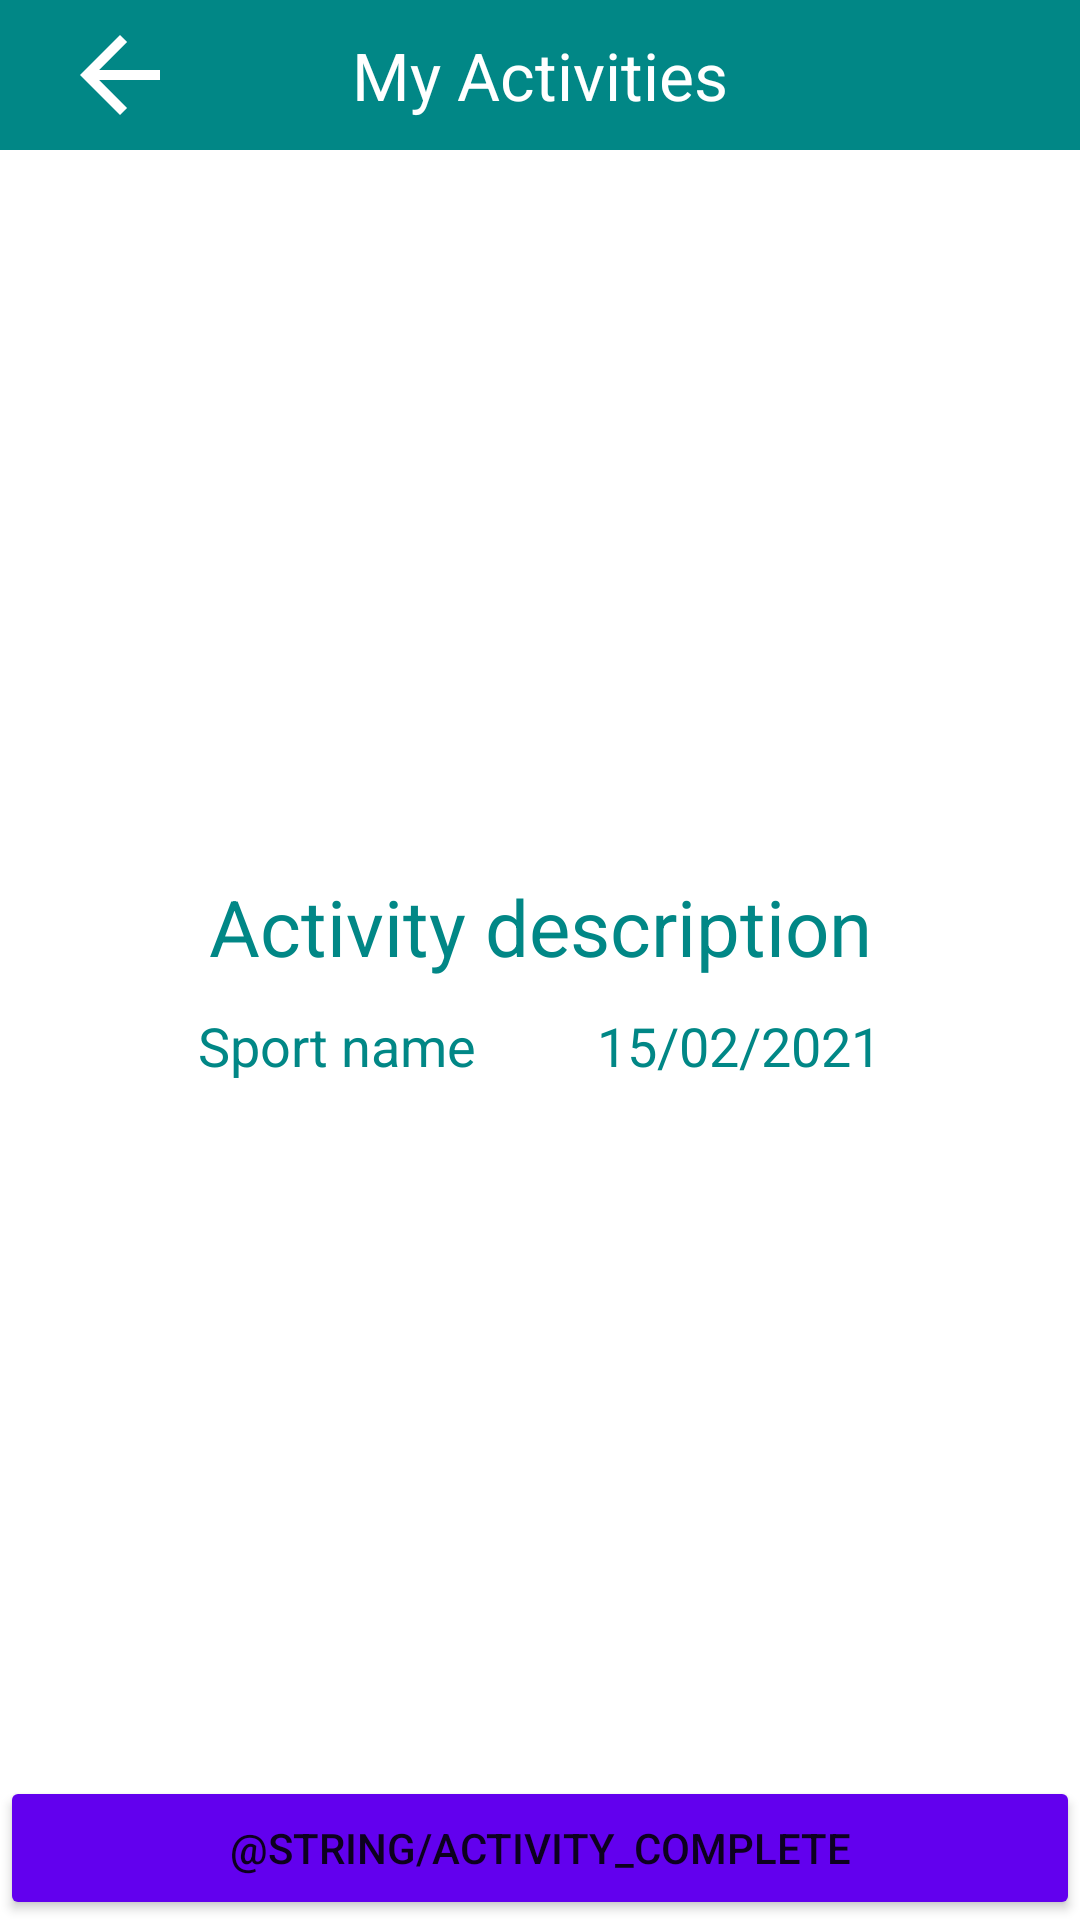

Icons on this 1080x1920 Android screen, each with the point to tap as (x=x, y=y):
back to activities list: (x=120, y=75)
